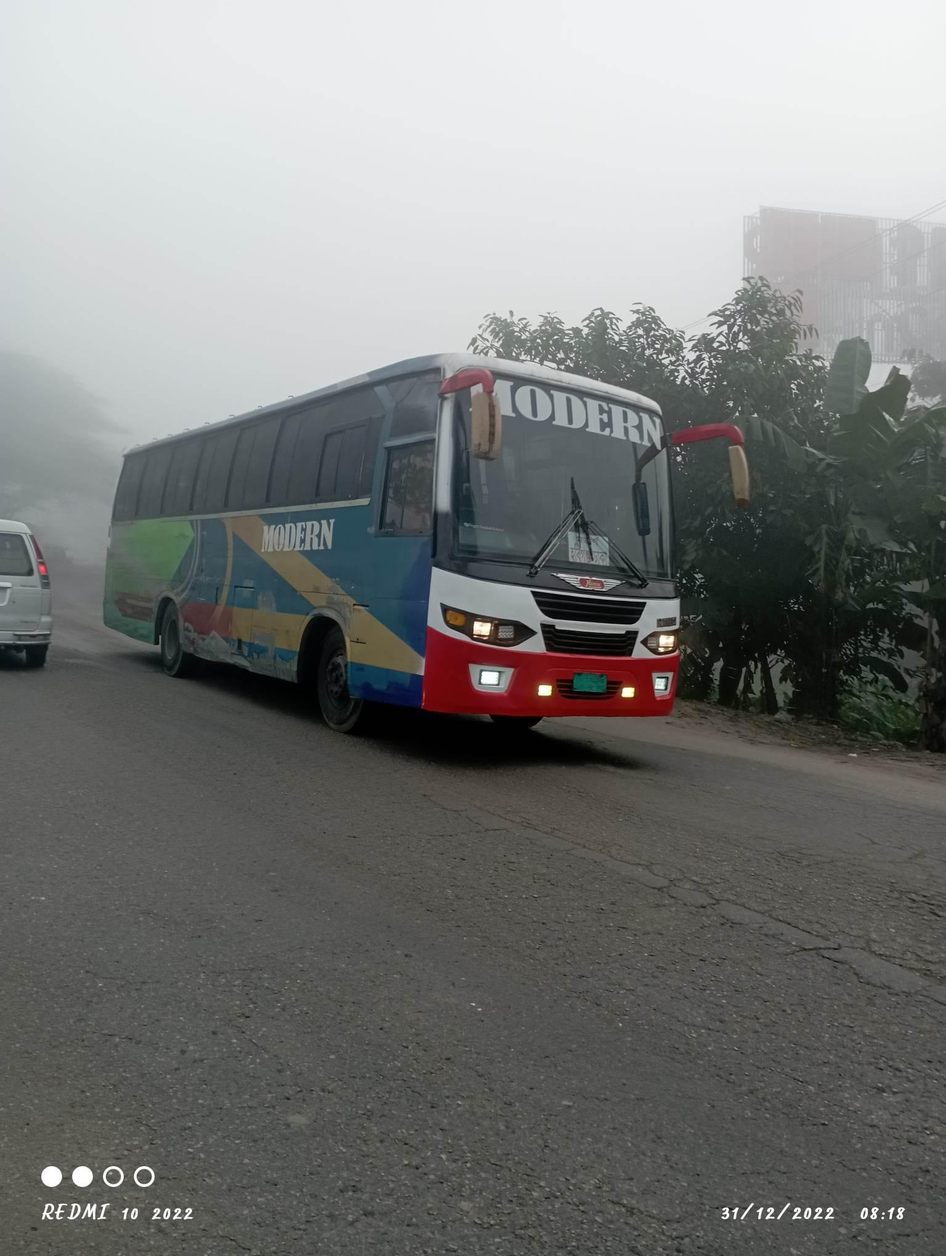Bus: (77, 323, 769, 787)
Car: (1, 499, 70, 684)
